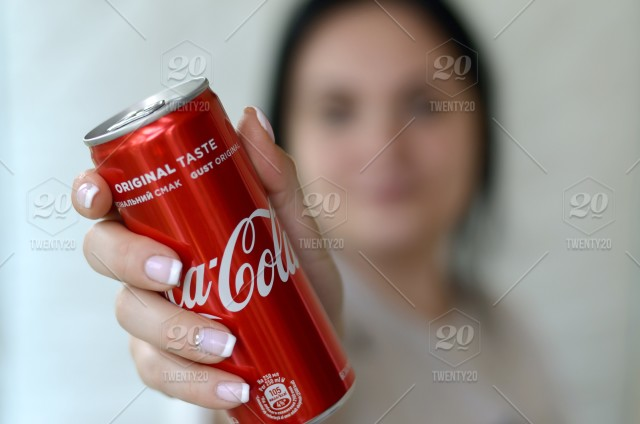coke: (84, 75, 358, 424)
